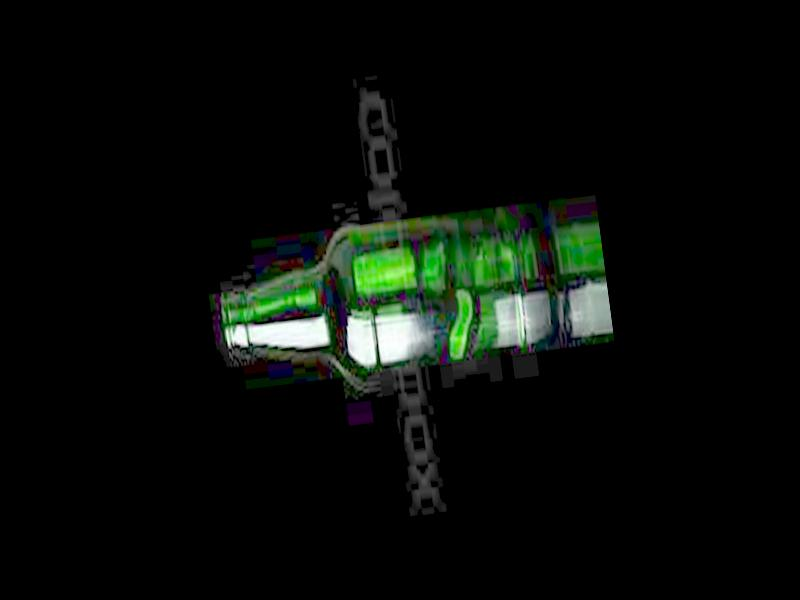Beer: (213, 203, 529, 385)
